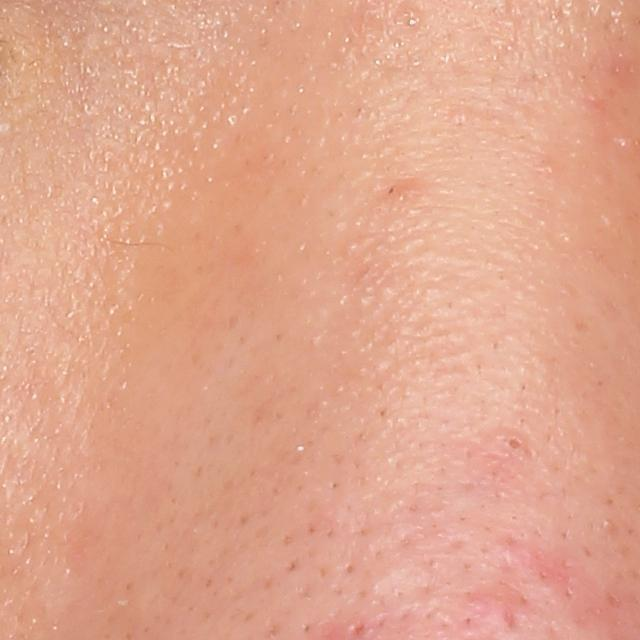comedo: (500, 434, 528, 458)
